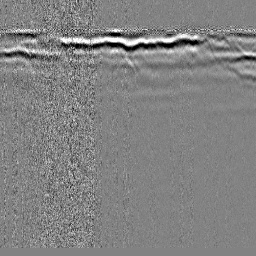cavity: (116, 57, 136, 74)
